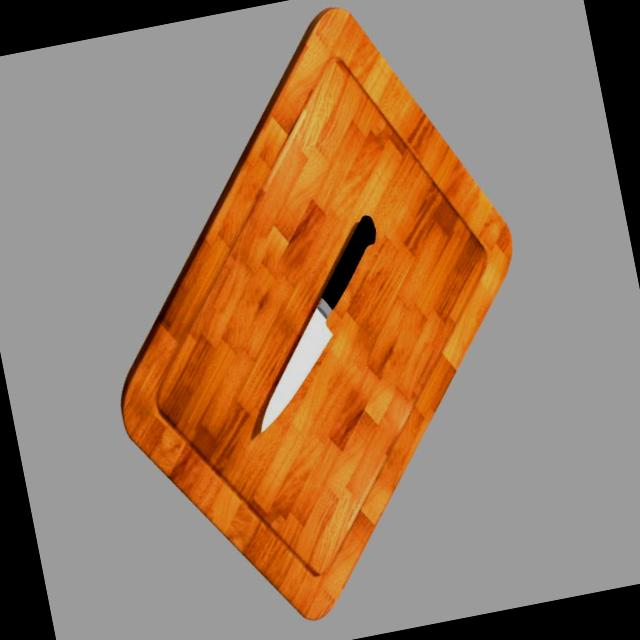knife: (308, 214, 389, 312)
